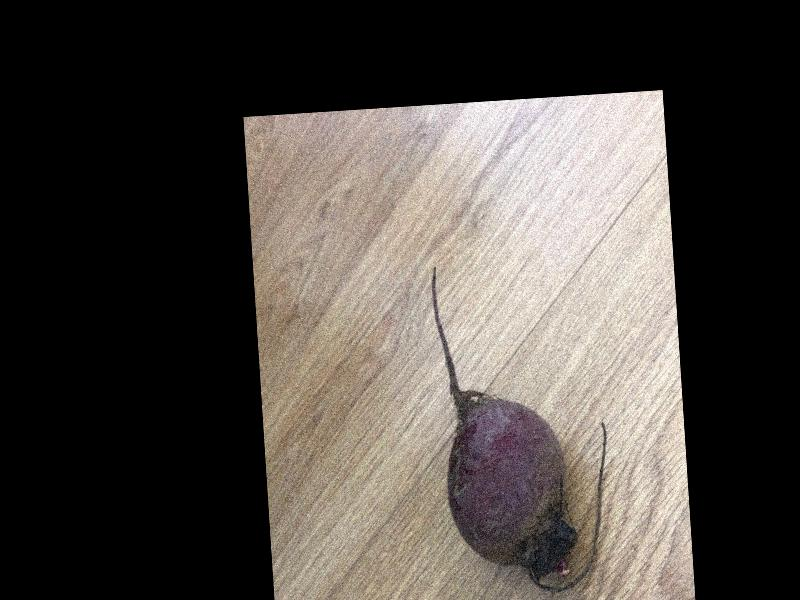Beet: (429, 256, 616, 598)
